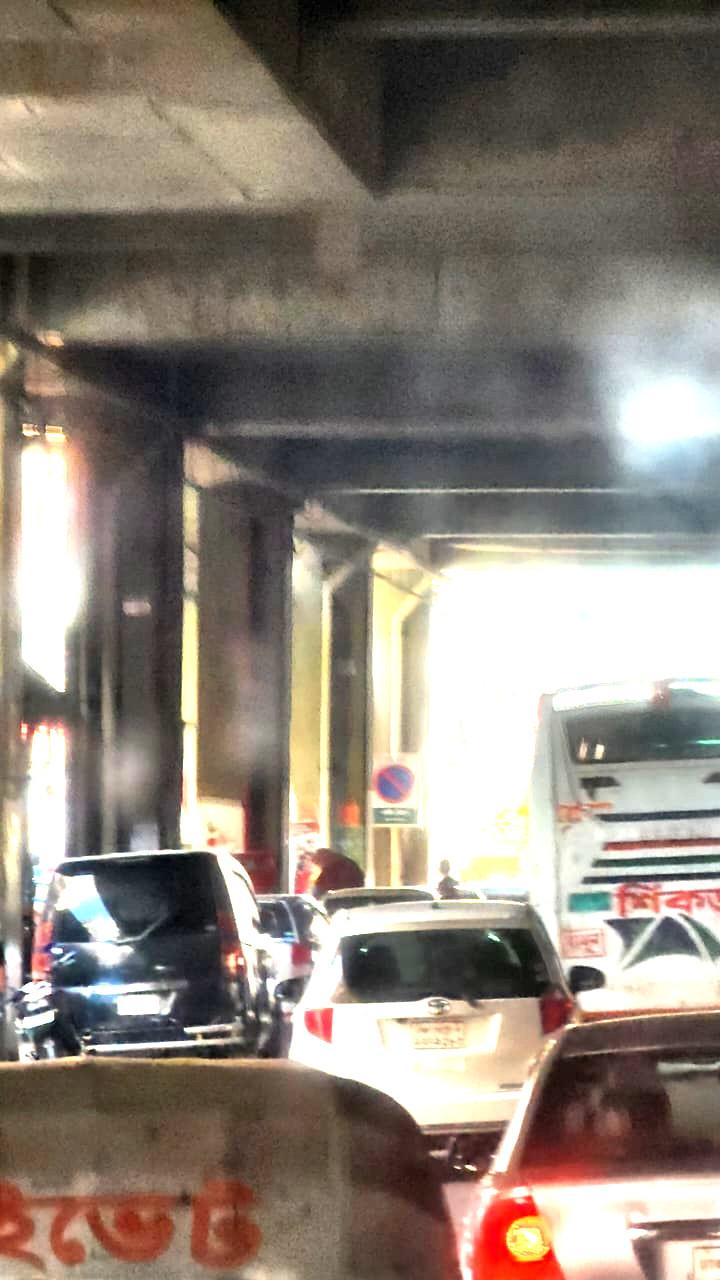No Parking: (370, 757, 421, 823)
